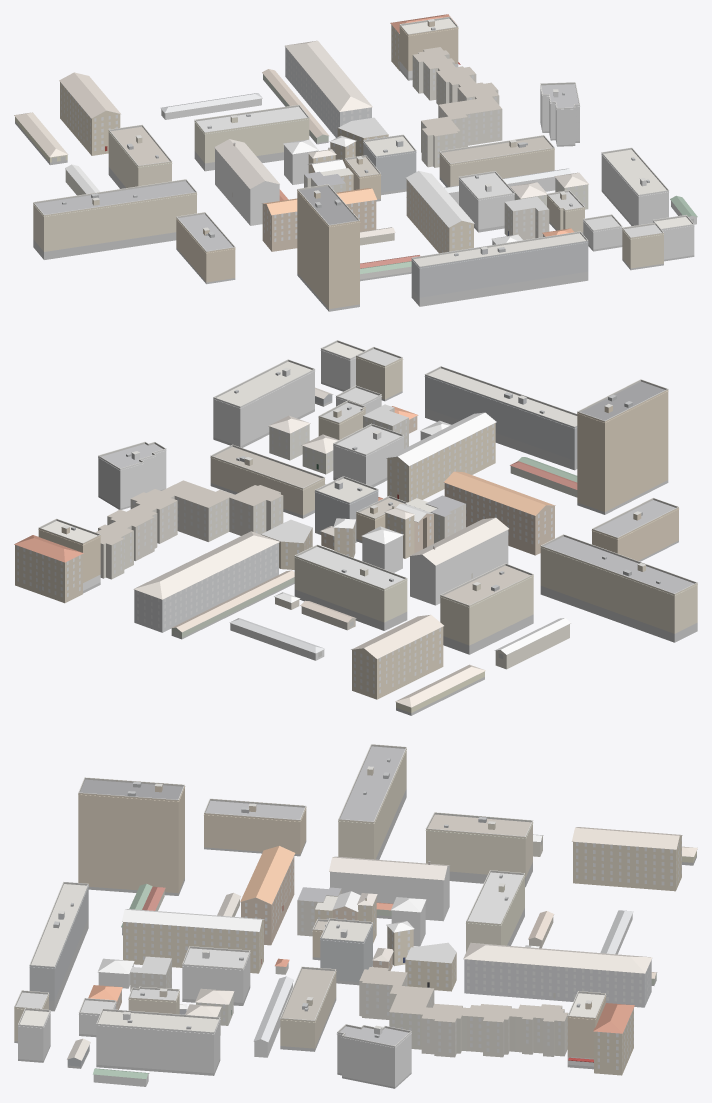
The model's file is bld_-1_-1.dae.
The picture shows the model from 3 angles, top to bottom: view 1: azimuth 30°, elevation 25°; view 2: azimuth 150°, elevation 25°; view 3: azimuth 270°, elevation 25°; orthographic projection. The views are drawn at different scales.
Parts seen in each view (by area): view 1: blda2098; view 2: blda2098; view 3: blda2098.
Part boxes in pixels (<box>): blda2098: <box>14,14,697,311</box>; blda2098: <box>14,340,697,715</box>; blda2098: <box>14,744,697,1088</box>.
Bounding box in the file's own units: 290 × 285 × 50.98.
